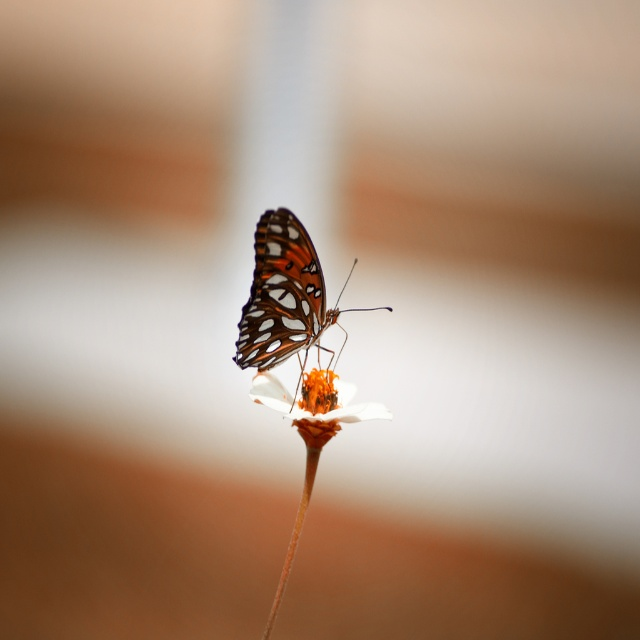Butterfly: (231, 210, 389, 429)
